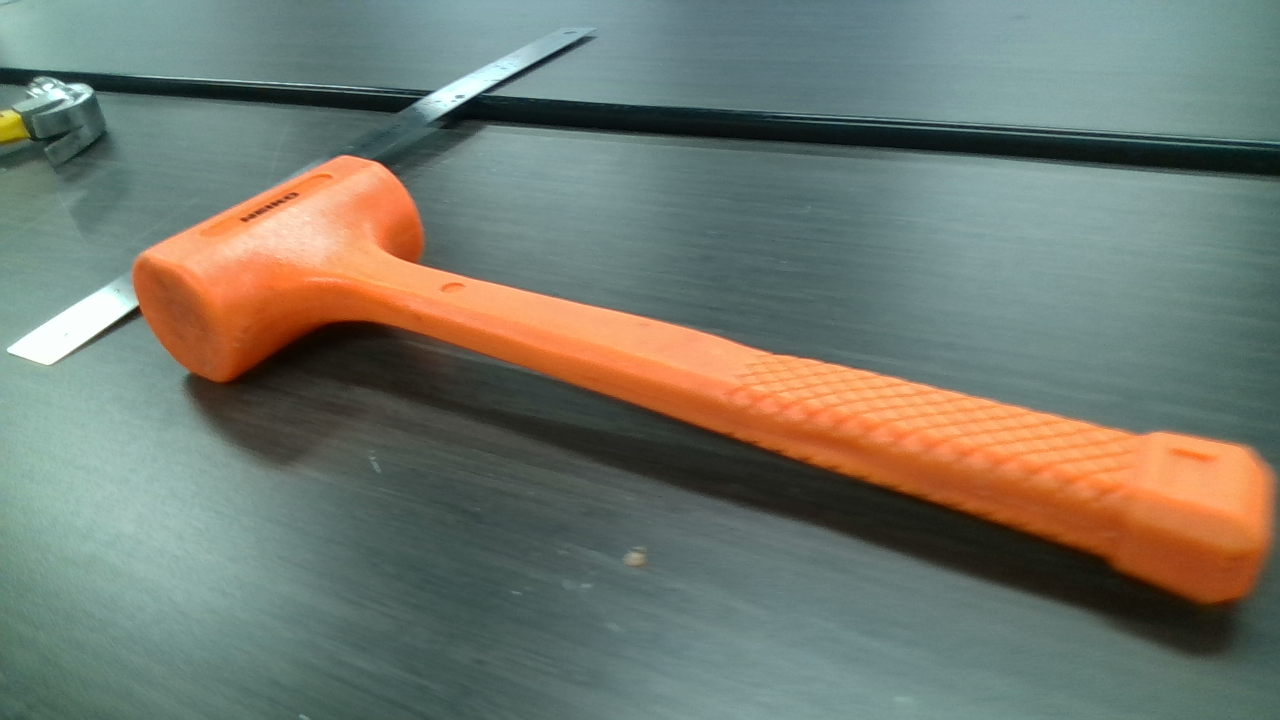Orange Hammer: (121, 144, 1266, 609)
